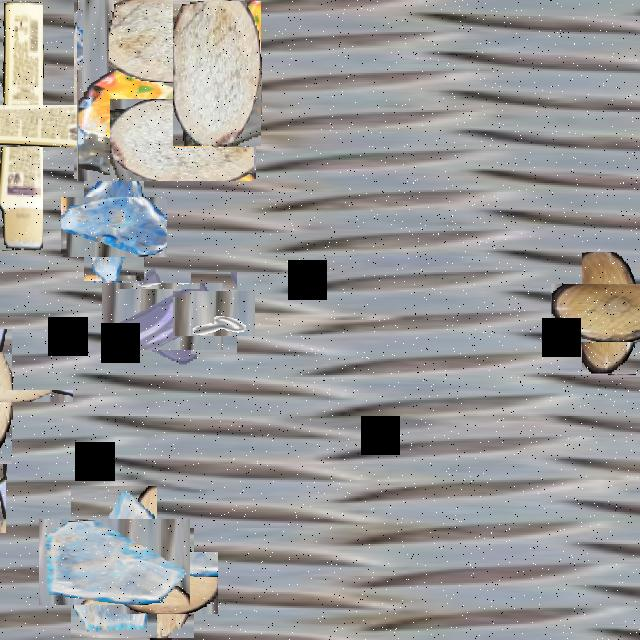glass: (54, 502, 174, 622), (116, 269, 210, 364), (72, 186, 156, 269)
metal: (182, 281, 246, 345)
plastic: (75, 1, 255, 180), (0, 53, 94, 198), (0, 427, 6, 533)
wood: (173, 2, 261, 148), (120, 540, 206, 626), (566, 268, 640, 357), (0, 359, 42, 433)
